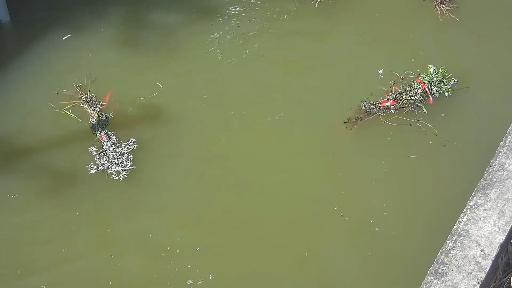twig: (50, 64, 146, 182), (342, 64, 466, 136), (410, 0, 474, 24)
